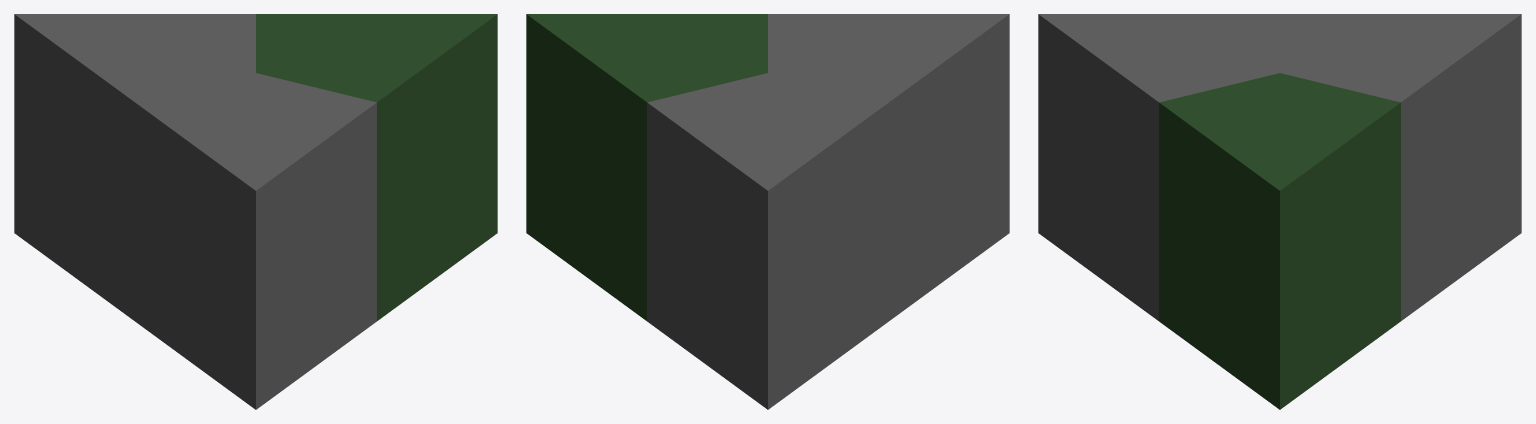
Rendered from tri_10_cliff_forest-cliff_cliff-forest.glb.
The picture shows the model from 3 angles, left to right: view 1: azimuth 30°, elevation 25°; view 2: azimuth 150°, elevation 25°; view 3: azimuth 270°, elevation 25°; orthographic projection.
Visible parts, largest first — view 1: tri_10_cliff_forest-cliff_cliff-forest; view 2: tri_10_cliff_forest-cliff_cliff-forest; view 3: tri_10_cliff_forest-cliff_cliff-forest.
Part boxes in pixels (x1=…): tri_10_cliff_forest-cliff_cliff-forest: x1=14, y1=14, x2=497, y2=409; tri_10_cliff_forest-cliff_cliff-forest: x1=526, y1=14, x2=1009, y2=409; tri_10_cliff_forest-cliff_cliff-forest: x1=1038, y1=14, x2=1521, y2=409.
Size of the model in its own units: 0.8663 by 0.5 by 1.
